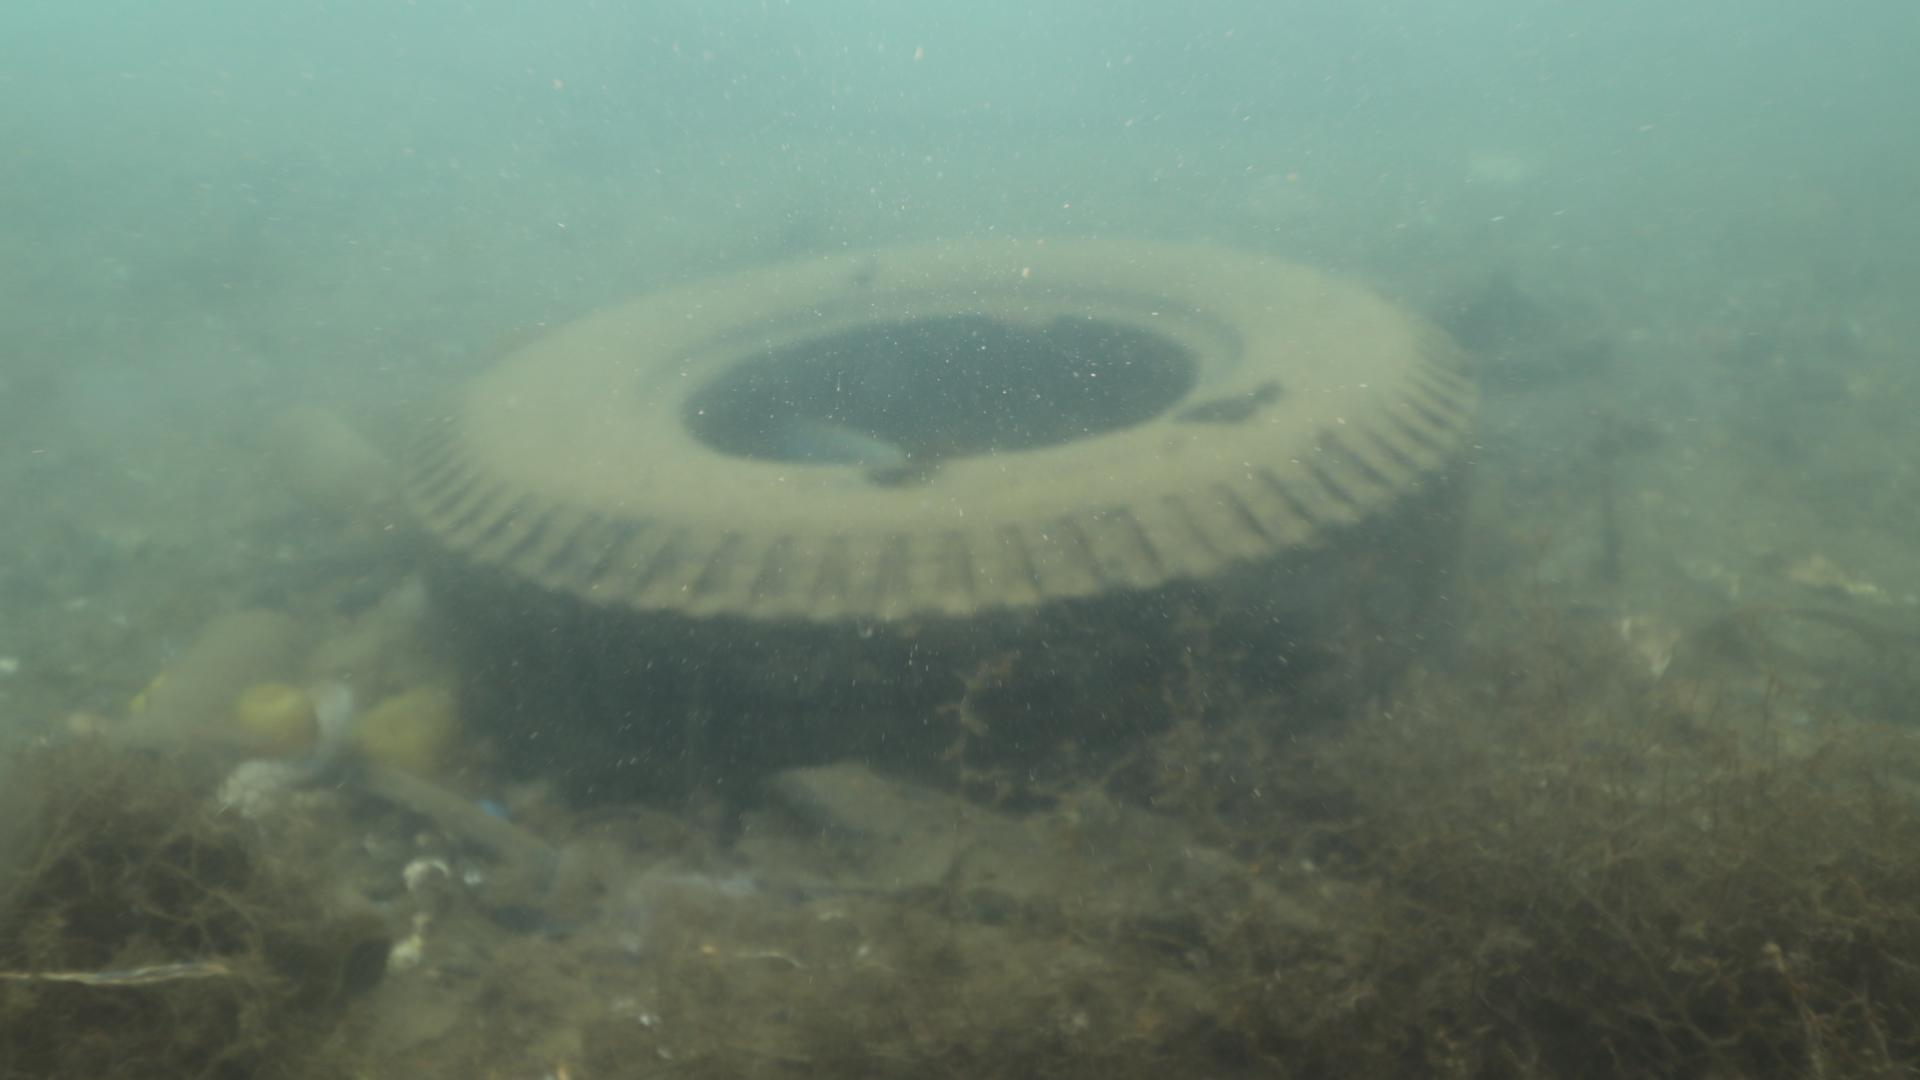tire: (419, 232, 1470, 767)
